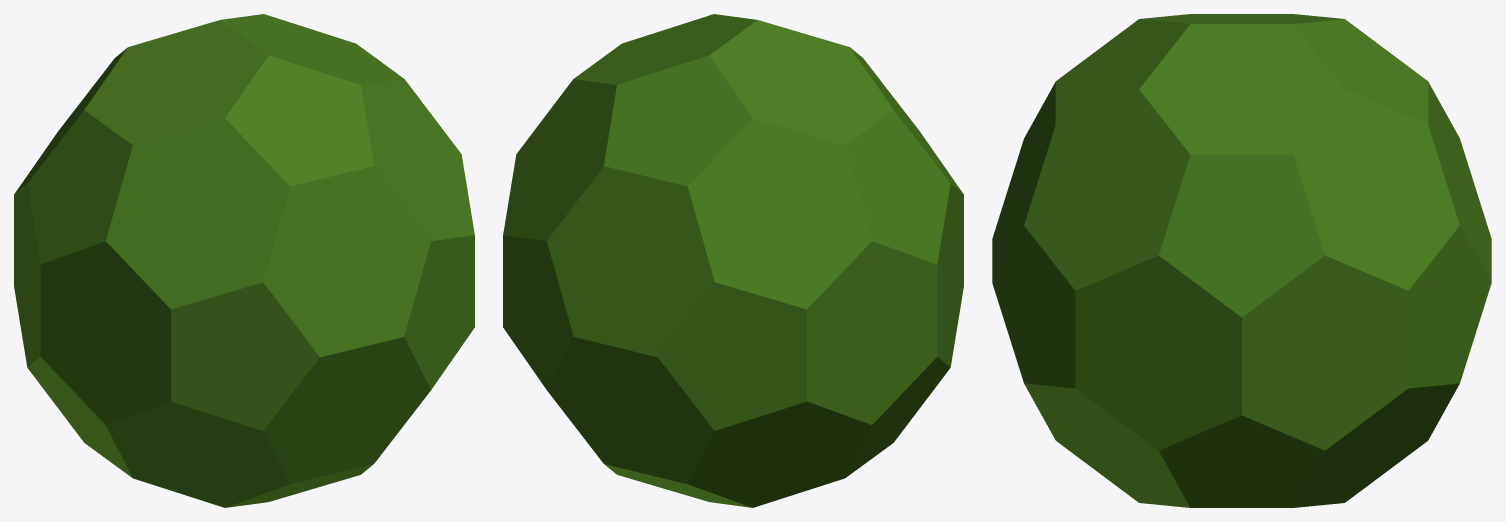
Rendered from bush.dae.
The picture shows the model from 3 angles, left to right: view 1: azimuth 30°, elevation 25°; view 2: azimuth 150°, elevation 25°; view 3: azimuth 270°, elevation 25°; orthographic projection. The views are drawn at different scales.
Parts seen in each view (by area): view 1: Polyhedra; view 2: Polyhedra; view 3: Polyhedra.
Boxes of the visible parts, x1,y1,x2,y2 form: Polyhedra: [14, 14, 474, 507]; Polyhedra: [503, 14, 963, 507]; Polyhedra: [992, 14, 1491, 507].
Bounding box in the file's own units: 2.55 × 2.67 × 2.55.
1 material, 1 textured.
